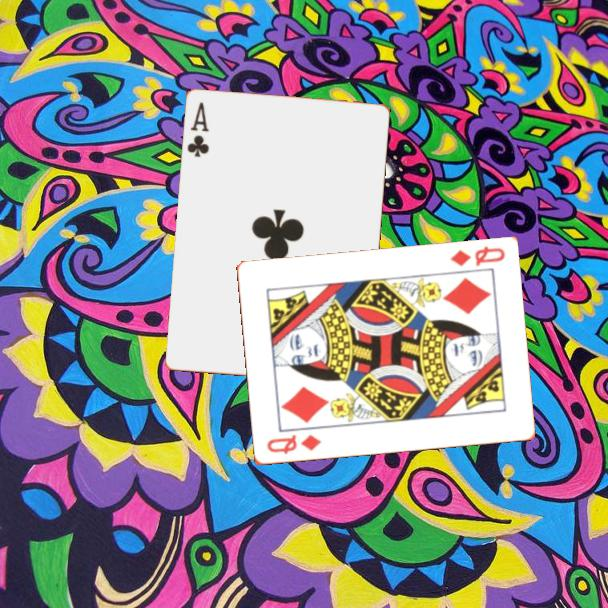c01: (184, 99, 212, 160)
d12: (446, 243, 508, 270), (263, 431, 324, 457)
